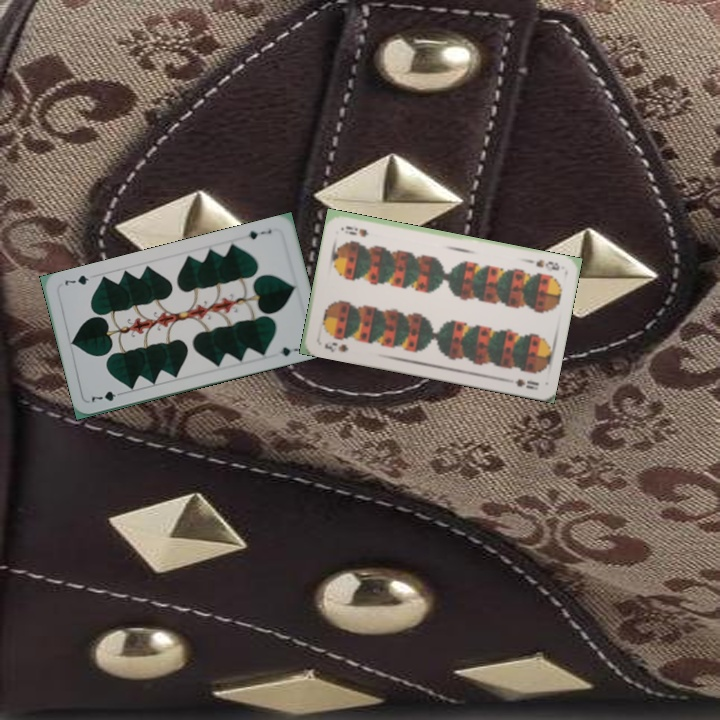G7: (86, 387, 127, 405), (244, 225, 274, 242)
S8: (524, 255, 562, 274), (320, 338, 351, 355)
